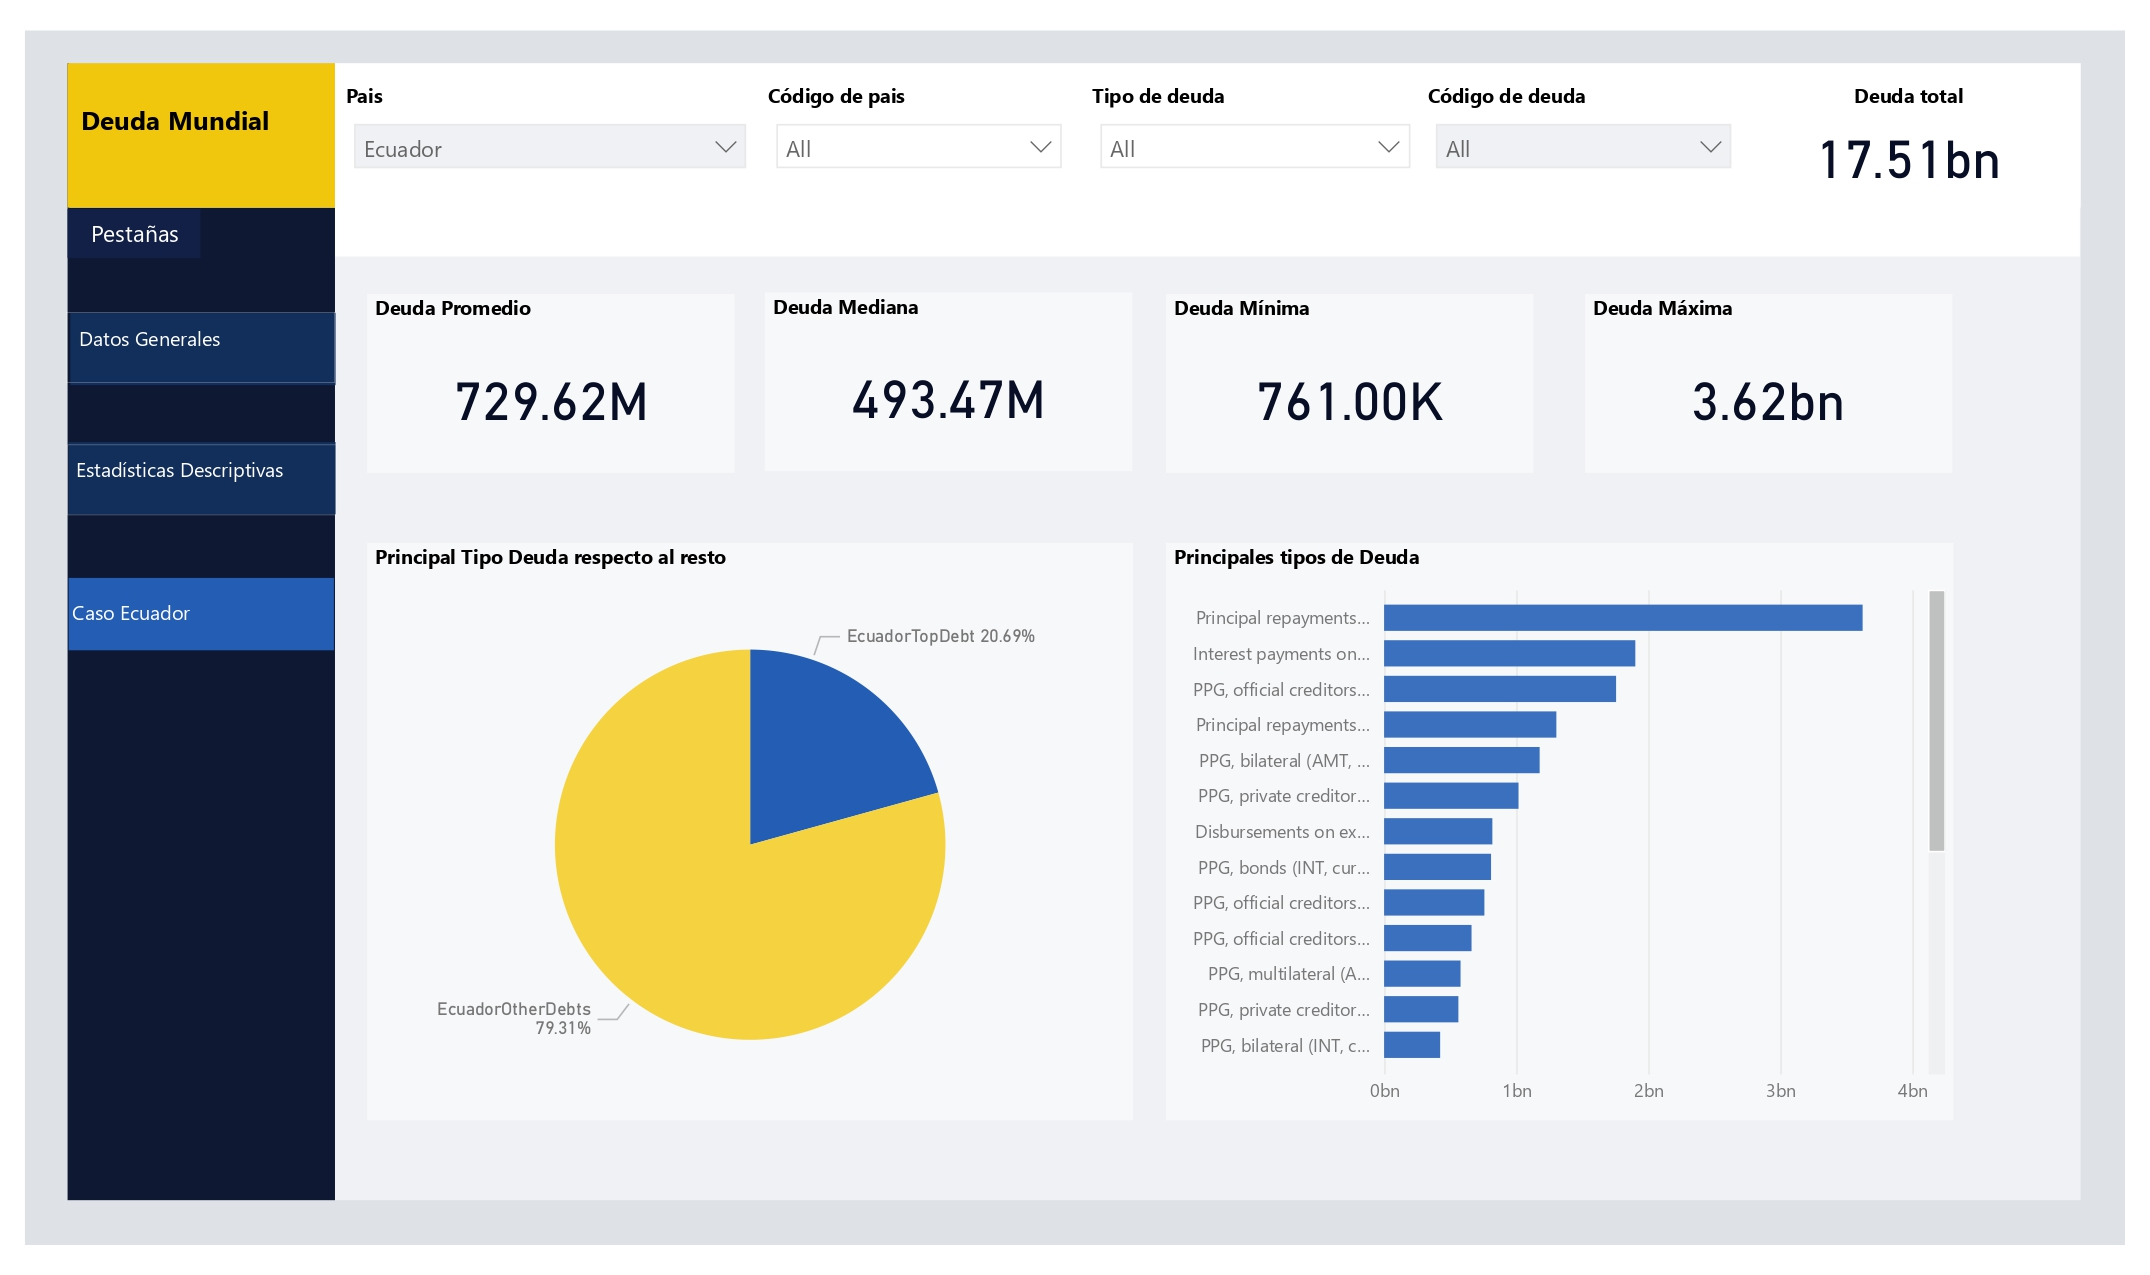

The page's visual inventory and layout, read from the dashboard file:
{"tool":"powerbi","page":{"name":"Ecuador","canvas":[1280,720],"ordinal":2},"visuals":[{"type":"basicShape","title":"(0) Main Background","box":[26,0,1227,693],"z":0},{"type":"basicShape","title":"(0) Title Area","box":[187.4,87.2,1065.3,30.6],"z":1000},{"type":"basicShape","title":"(0) Pane Area","box":[26,0,163.4,693.2],"z":2000},{"type":"basicShape","title":"(0) Filter Area","box":[27.1,0,1225.5,87.9],"z":3000},{"type":"basicShape","title":"(2) Pages - Bg Selected","box":[25.5,88.4,80.6,30.5],"z":4000},{"type":"basicShape","title":"(2) Pages 1 - Click","box":[25.5,151.3,165,45.2],"z":8000},{"type":"basicShape","title":"(0) Logo Area","box":[26,0,163,88],"z":10000},{"type":"textbox","title":"(2) Pages - Select TXT","box":[24.6,88.4,84.5,36.3],"z":11000},{"type":"basicShape","title":"(0) BM2 - Click","box":[28.5,85.5,80.6,33.4],"z":14000},{"type":"textbox","box":[28.8,18.9,158.6,65.8],"z":16000},{"type":"slicer","title":"Código de pais","fields":{"Values":["international_debt.country_code"]},"box":[447.6,10.7,194.2,104.2],"z":17000},{"type":"slicer","title":"Tipo de deuda","fields":{"Values":["international_debt.indicator_name"]},"box":[645.4,10.7,208.6,103],"z":18000},{"type":"slicer","title":"Código de deuda","fields":{"Values":["international_debt.indicator_code"]},"box":[850.1,10.7,200.3,86.4],"z":19000},{"type":"slicer","title":"Pais","fields":{"Values":["international_debt.country_name"]},"box":[190.7,10.7,259.3,86.4],"z":20000},{"type":"card","title":"Deuda total","fields":{"Values":["Sum(international_debt.debt)"]},"box":[1043.3,10.8,209.2,95.3],"z":21000},{"type":"textbox","title":"(2) Pages 1 - TXT 1","box":[27.5,152.3,146.4,43.2],"z":22000},{"type":"basicShape","title":"(2) Pages 1 - Click","box":[24.6,313,165,45.2],"z":23000},{"type":"textbox","title":"(2) Pages 1 - TXT 1","box":[24.3,319,149.6,39.6],"z":24000},{"type":"card","title":"Deuda Promedio","fields":{"Values":["international_debt.Measure"]},"box":[208.3,140.5,224,109],"z":25000},{"type":"card","title":"Deuda Máxima","fields":{"Values":["international_debt.DeudaMaxima"]},"box":[950.7,140.6,224.4,109],"z":26000},{"type":"card","title":"Deuda Mínima","fields":{"Values":["international_debt.DeudaMinima"]},"box":[695.5,140.5,224,109],"z":27000},{"type":"card","title":"Deuda Mediana","fields":{"Values":["international_debt.DeudaMedia"]},"box":[450.6,139.7,224.4,109],"z":28000},{"type":"clusteredBarChart","title":"Principales tipos de Deuda","fields":{"Y":["Max(international_debt.debt)"],"Category":["international_debt.indicator_name"]},"box":[695.4,292.3,479.9,352.2],"z":30000},{"type":"basicShape","title":"(2) Pages 1 - Click","box":[24.7,230.6,165.8,45.1],"z":31000},{"type":"textbox","title":"(2) Pages 1 - TXT 1","box":[26.2,232.5,146.4,43.2],"z":32000},{"type":"pieChart","title":"Principal Tipo Deuda respecto al resto","fields":{"Y":["international_debt.DT.AMT.DLXF.CD_PorcentajeEcuador","international_debt.EcuadorOtherDebts"]},"box":[208.5,292.3,466.9,352.2],"z":33000},{"type":"actionButton","box":[25.2,151.4,164,43.3],"z":33001},{"type":"actionButton","box":[26.1,232.5,164,43.3],"z":33002}]}

Visuals, with their boxes on the page's 1280x720 design canvas (x1, y1, x2, y2). These are canvas units, not pixel positions in the 2150x1275 screenshot, which may show the page scaled, cropped or inside an application window:
"(0) Main Background" basicShape: crop(26, 0, 1253, 693)
"(0) Title Area" basicShape: crop(187, 87, 1253, 118)
"(0) Pane Area" basicShape: crop(26, 0, 189, 693)
"(0) Filter Area" basicShape: crop(27, 0, 1253, 88)
"(2) Pages - Bg Selected" basicShape: crop(26, 88, 106, 119)
"(2) Pages 1 - Click" basicShape: crop(26, 151, 190, 196)
"(0) Logo Area" basicShape: crop(26, 0, 189, 88)
"(2) Pages - Select TXT" textbox: crop(25, 88, 109, 125)
"(0) BM2 - Click" basicShape: crop(28, 86, 109, 119)
textbox: crop(29, 19, 187, 85)
"Código de pais" slicer: crop(448, 11, 642, 115)
"Tipo de deuda" slicer: crop(645, 11, 854, 114)
"Código de deuda" slicer: crop(850, 11, 1050, 97)
"Pais" slicer: crop(191, 11, 450, 97)
"Deuda total" card: crop(1043, 11, 1252, 106)
"(2) Pages 1 - TXT 1" textbox: crop(28, 152, 174, 196)
"(2) Pages 1 - Click" basicShape: crop(25, 313, 190, 358)
"(2) Pages 1 - TXT 1" textbox: crop(24, 319, 174, 359)
"Deuda Promedio" card: crop(208, 140, 432, 250)
"Deuda Máxima" card: crop(951, 141, 1175, 250)
"Deuda Mínima" card: crop(696, 140, 920, 250)
"Deuda Mediana" card: crop(451, 140, 675, 249)
"Principales tipos de Deuda" clusteredBarChart: crop(695, 292, 1175, 644)
"(2) Pages 1 - Click" basicShape: crop(25, 231, 190, 276)
"(2) Pages 1 - TXT 1" textbox: crop(26, 232, 173, 276)
"Principal Tipo Deuda respecto al resto" pieChart: crop(208, 292, 675, 644)
actionButton: crop(25, 151, 189, 195)
actionButton: crop(26, 232, 190, 276)
